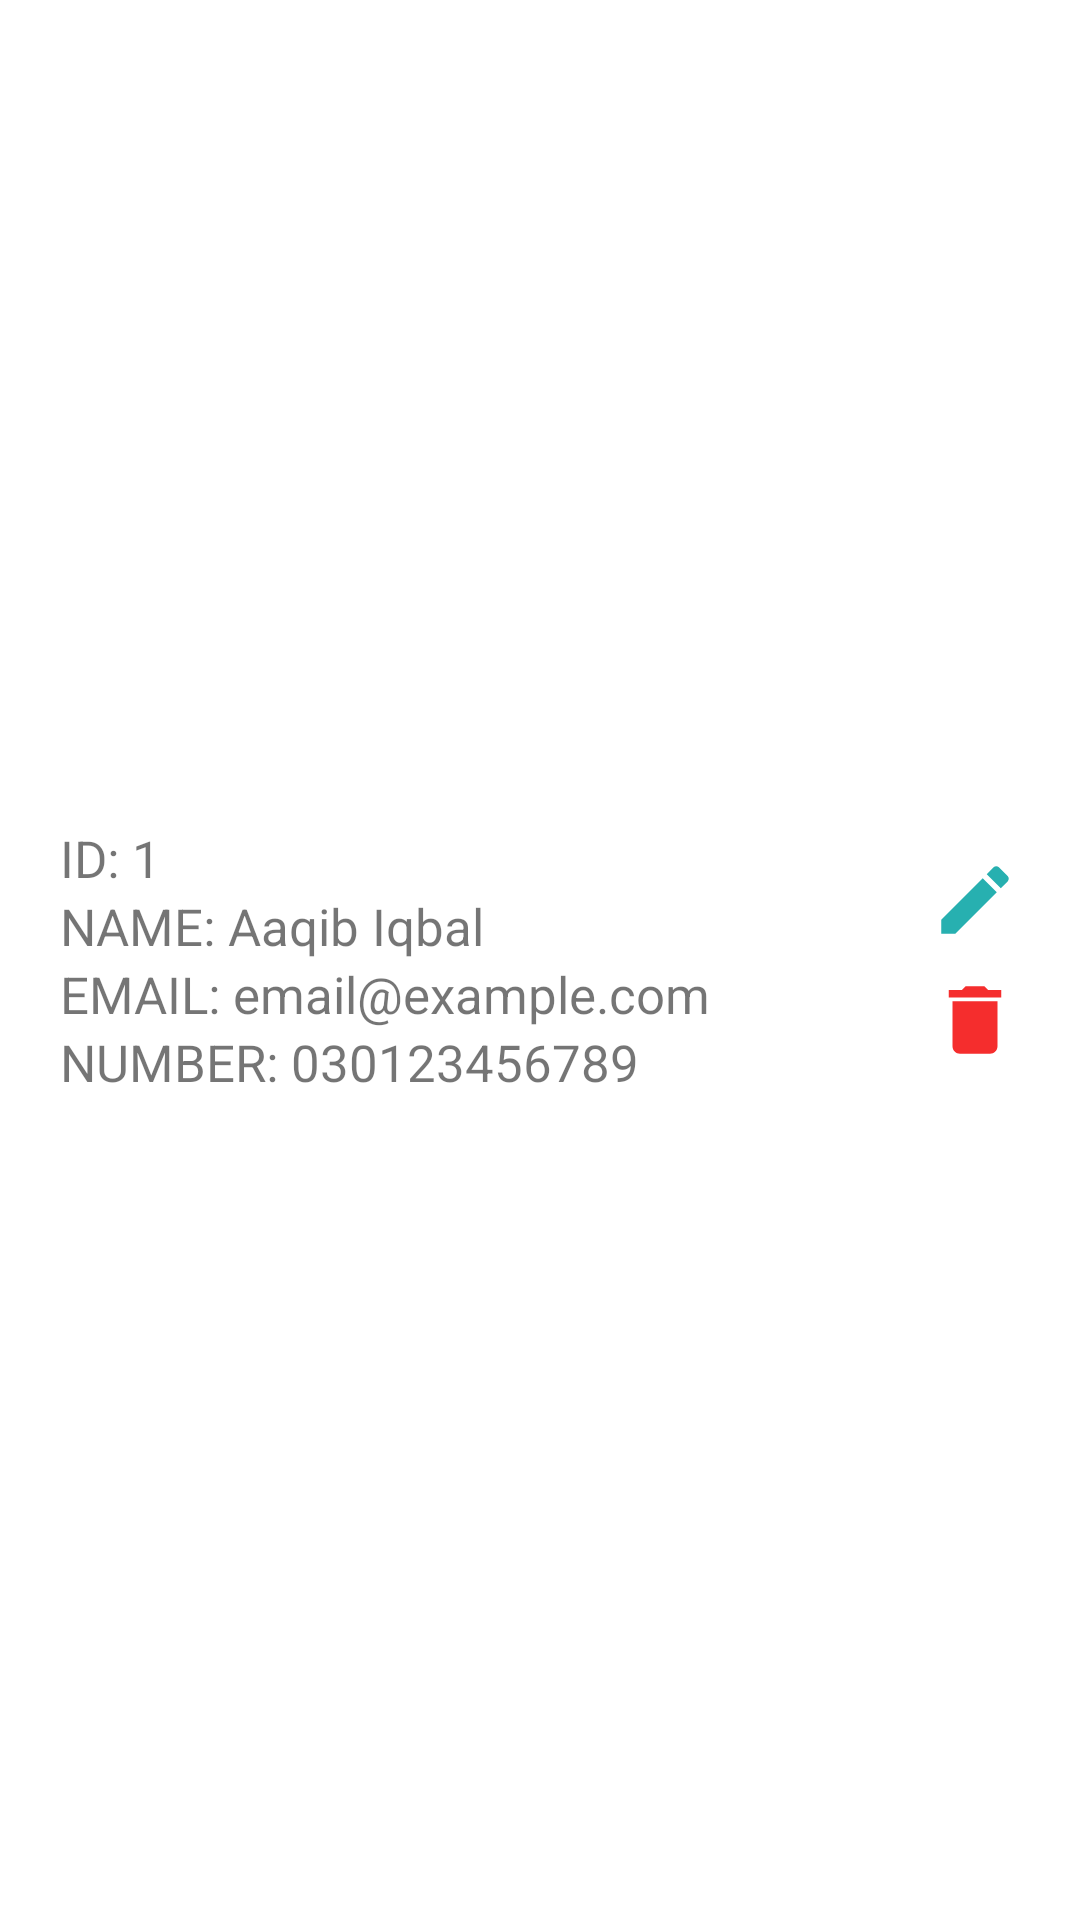

Icon click points for this 1080px x 1920px phone screenshot, format (x=x, y=y):
delete: (x=975, y=1020)
edit: (x=975, y=900)
